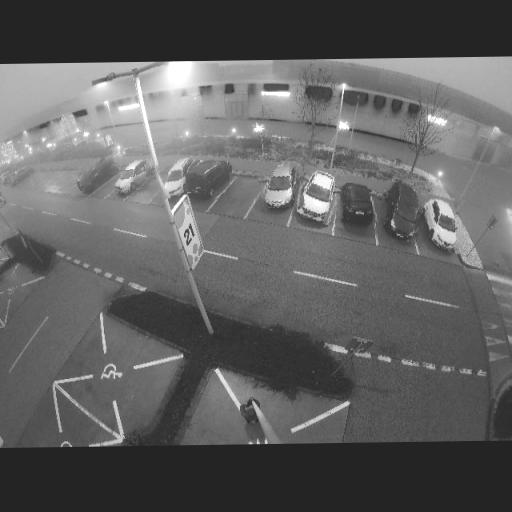busy: (376, 181, 426, 242), (294, 165, 343, 225), (422, 196, 466, 253), (258, 162, 304, 212), (336, 182, 380, 228), (189, 160, 232, 200), (158, 159, 199, 198), (112, 160, 154, 196), (78, 160, 119, 194), (0, 233, 28, 282)
free: (227, 185, 256, 210), (138, 179, 162, 206), (93, 173, 120, 196)
